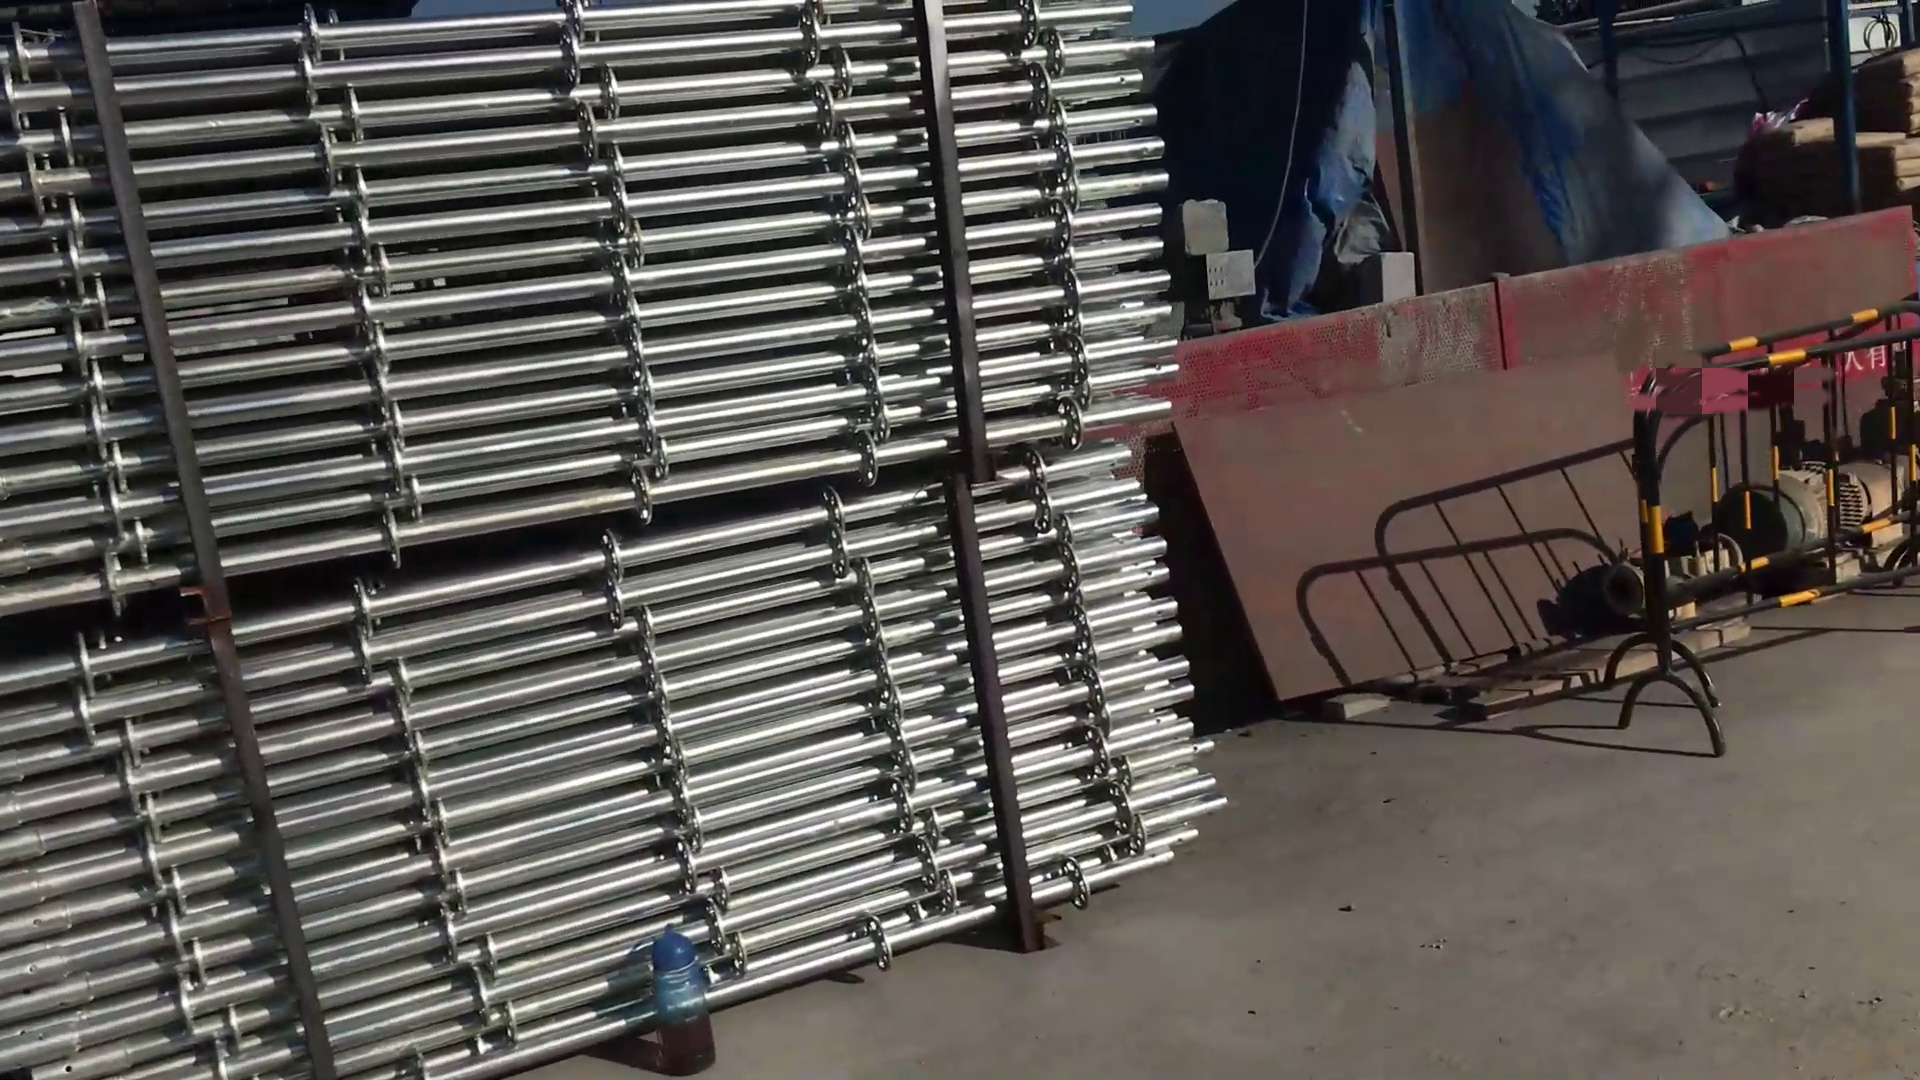fence: (1170, 241, 1619, 680), (1621, 301, 1920, 740)
scaffold: (7, 7, 1225, 1065)
